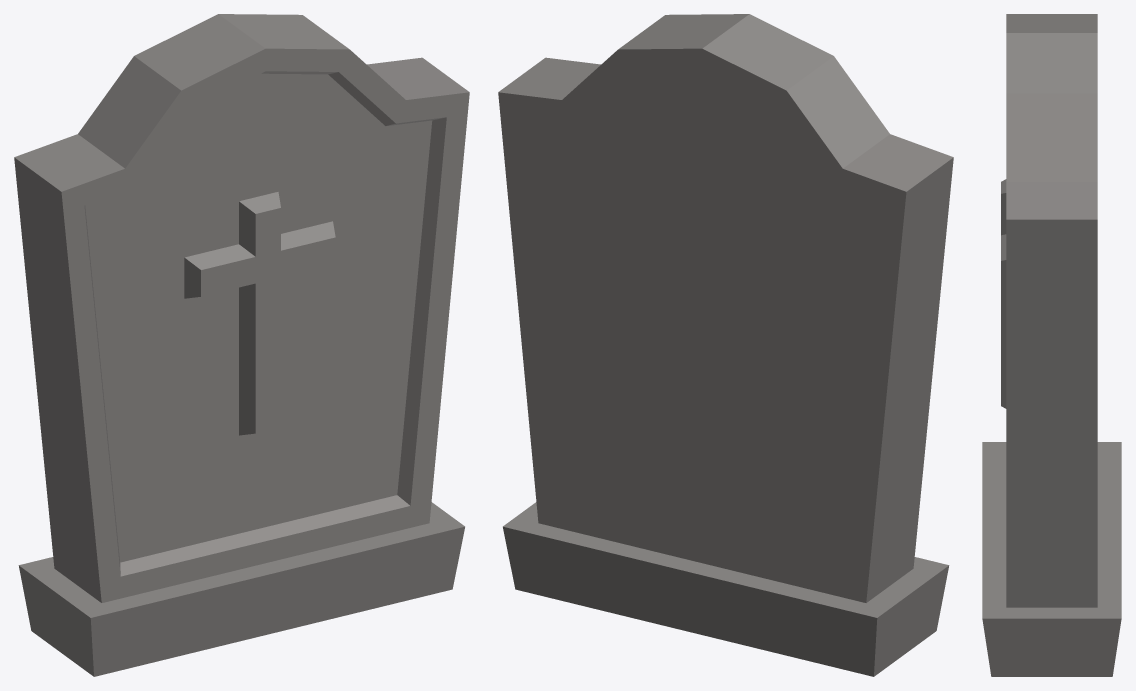
Rendered from SM_Props_Graveyard_03.fbx.
3 views of the same model, side by side, from view 1: azimuth 30°, elevation 25°; view 2: azimuth 150°, elevation 25°; view 3: azimuth 270°, elevation 25° (orthographic). The views are drawn at different scales.
Visible parts, largest first — view 1: SM_Props_Graveyard_03; view 2: SM_Props_Graveyard_03; view 3: SM_Props_Graveyard_03.
Boxes of the visible parts, x1,y1,x2,y2 form: SM_Props_Graveyard_03: (14, 14, 469, 676); SM_Props_Graveyard_03: (498, 14, 953, 676); SM_Props_Graveyard_03: (982, 14, 1121, 676).
Bounding box in the file's own units: 199 × 270 × 60.92.
